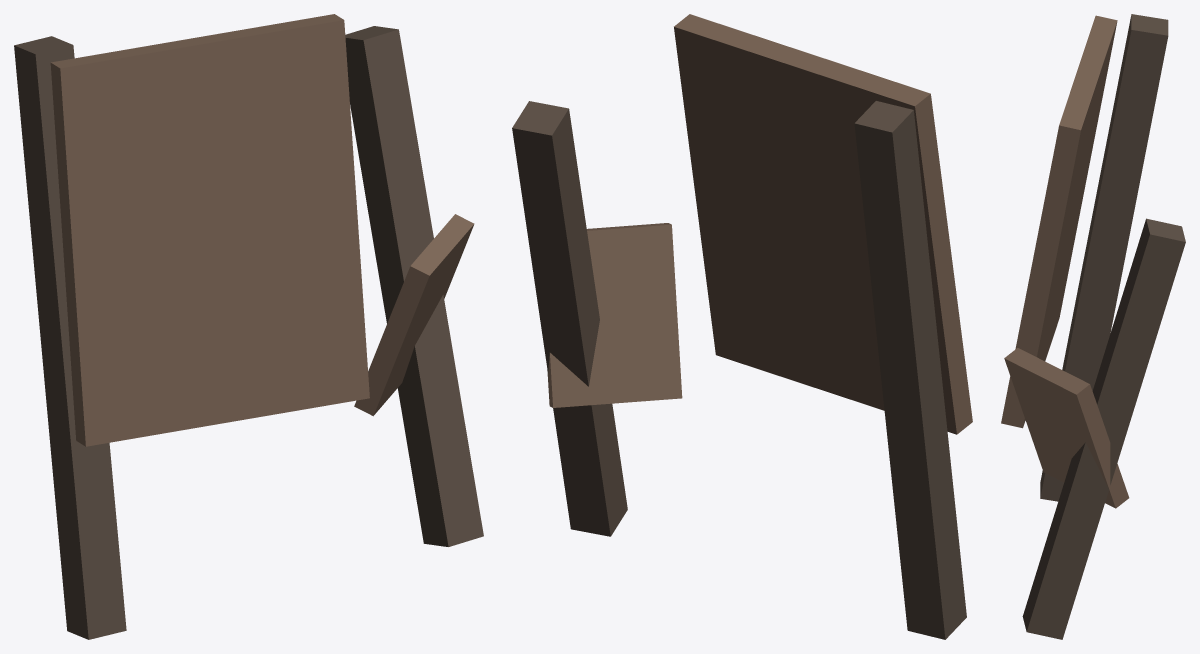
File: prop_kanban_ware.glb
The picture shows the model from 3 angles, left to right: view 1: azimuth 30°, elevation 25°; view 2: azimuth 150°, elevation 25°; view 3: azimuth 270°, elevation 25°; orthographic projection. The views are drawn at different scales.
Parts seen in each view (by area): view 1: kanban_ware; view 2: kanban_ware; view 3: kanban_ware.
Part boxes in pixels (x1,y1,x2,y2): kanban_ware: (14,14,483,639); kanban_ware: (512,14,972,639); kanban_ware: (1001,14,1185,639).
Bounding box in the file's own units: 1.09 × 1.4 × 0.4929.
